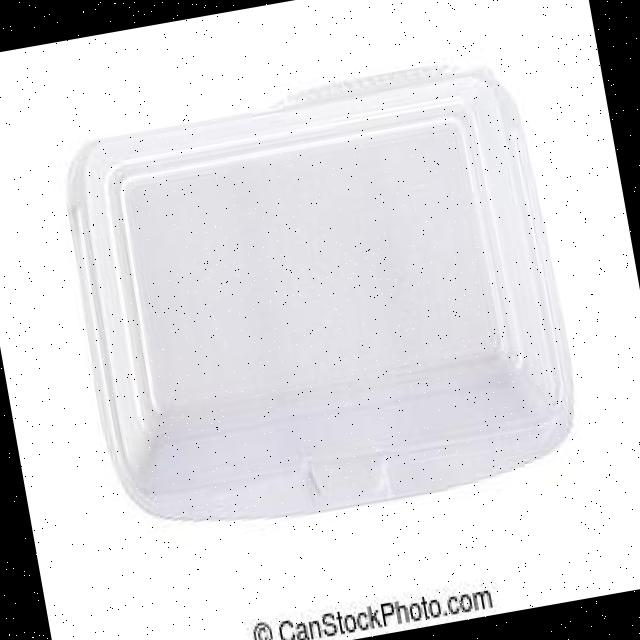styrofoam: (47, 48, 589, 548)
